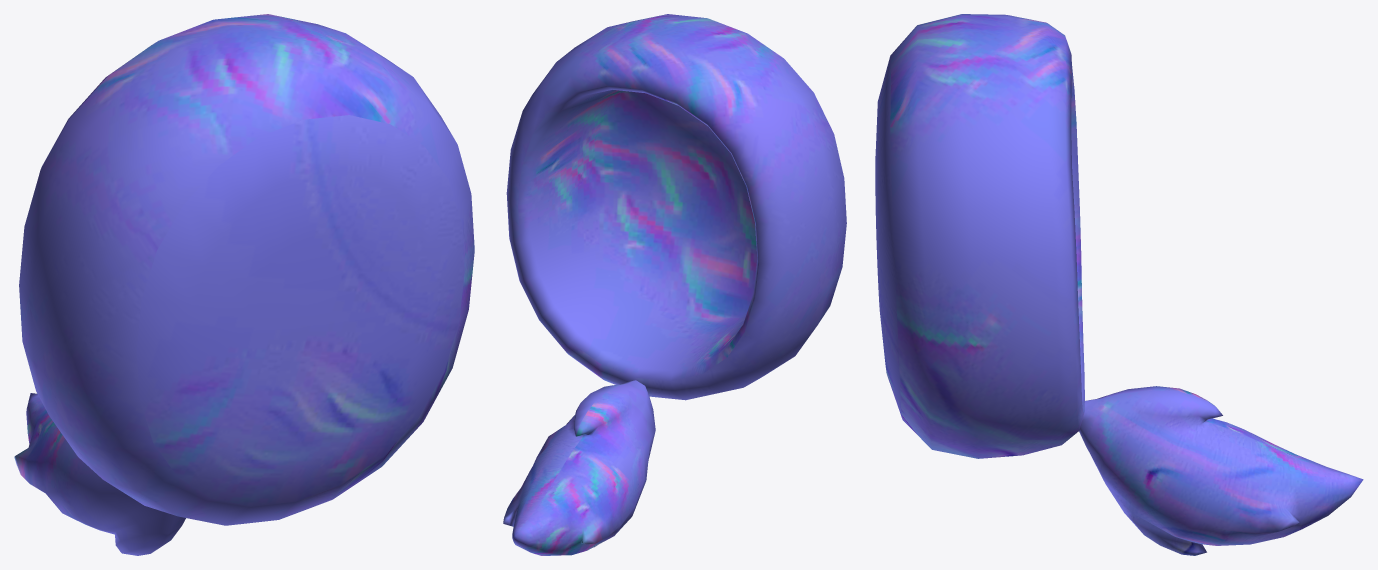
Rendered from Headwear63.glb.
3 renders of one model, left to right at view 1: azimuth 30°, elevation 25°; view 2: azimuth 150°, elevation 25°; view 3: azimuth 270°, elevation 25°, orthographic. The views are drawn at different scales.
Parts seen in each view (by area): view 1: Headwear63; view 2: Headwear63; view 3: Headwear63.
Part boxes in pixels (x1,y1,x2,y2): Headwear63: (14,14,474,555); Headwear63: (503,14,846,555); Headwear63: (875,14,1363,555).
Bounding box in the file's own units: 1.99 × 2.84 × 2.41.
Materials: 1 (1 with a texture image).
